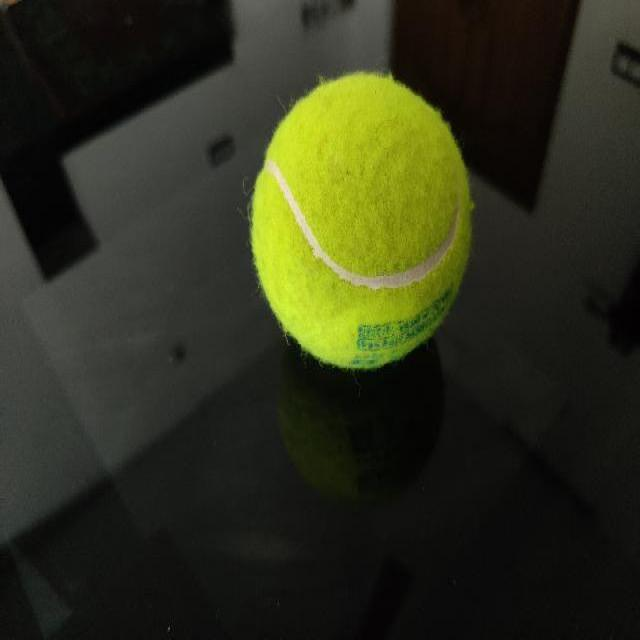tennis-ball: (249, 70, 472, 370)
